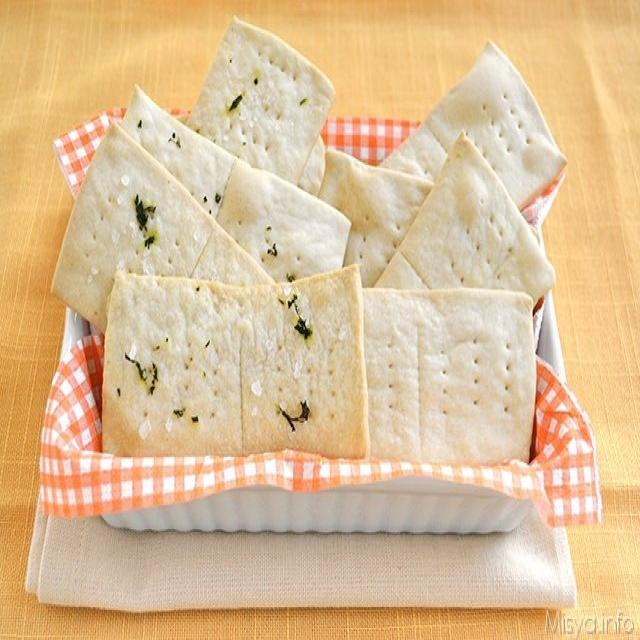Cracker: (95, 261, 381, 461), (60, 133, 300, 371), (316, 270, 548, 476), (388, 41, 576, 203)
